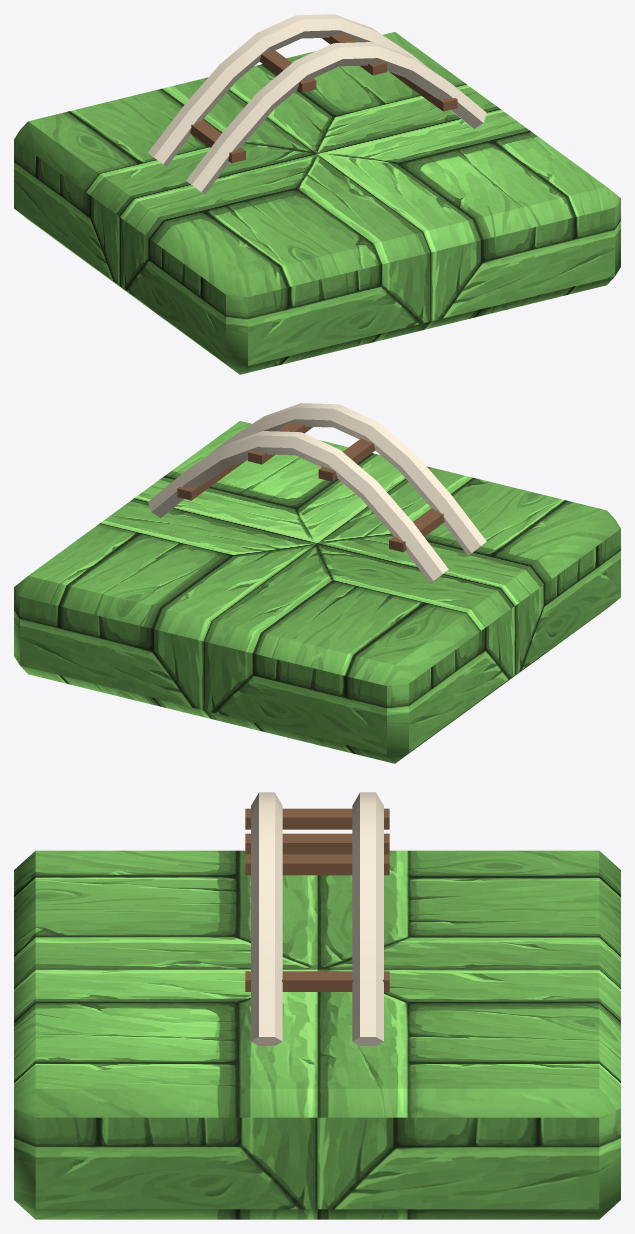
The model's file is tile_2.glb.
3 views of the same model, one above another, from view 1: azimuth 30°, elevation 25°; view 2: azimuth 150°, elevation 25°; view 3: azimuth 270°, elevation 25° (orthographic). The views are drawn at different scales.
Visible parts, largest first — view 1: tile_2; view 2: tile_2; view 3: tile_2.
Boxes of the visible parts, box(x1,y1,x2,y2) form: tile_2: box(14, 14, 620, 374); tile_2: box(14, 403, 620, 763); tile_2: box(14, 792, 620, 1219).
Bounding box in the file's own units: 0.84 × 0.4491 × 0.84.
Materials: 3 (1 with a texture image).
